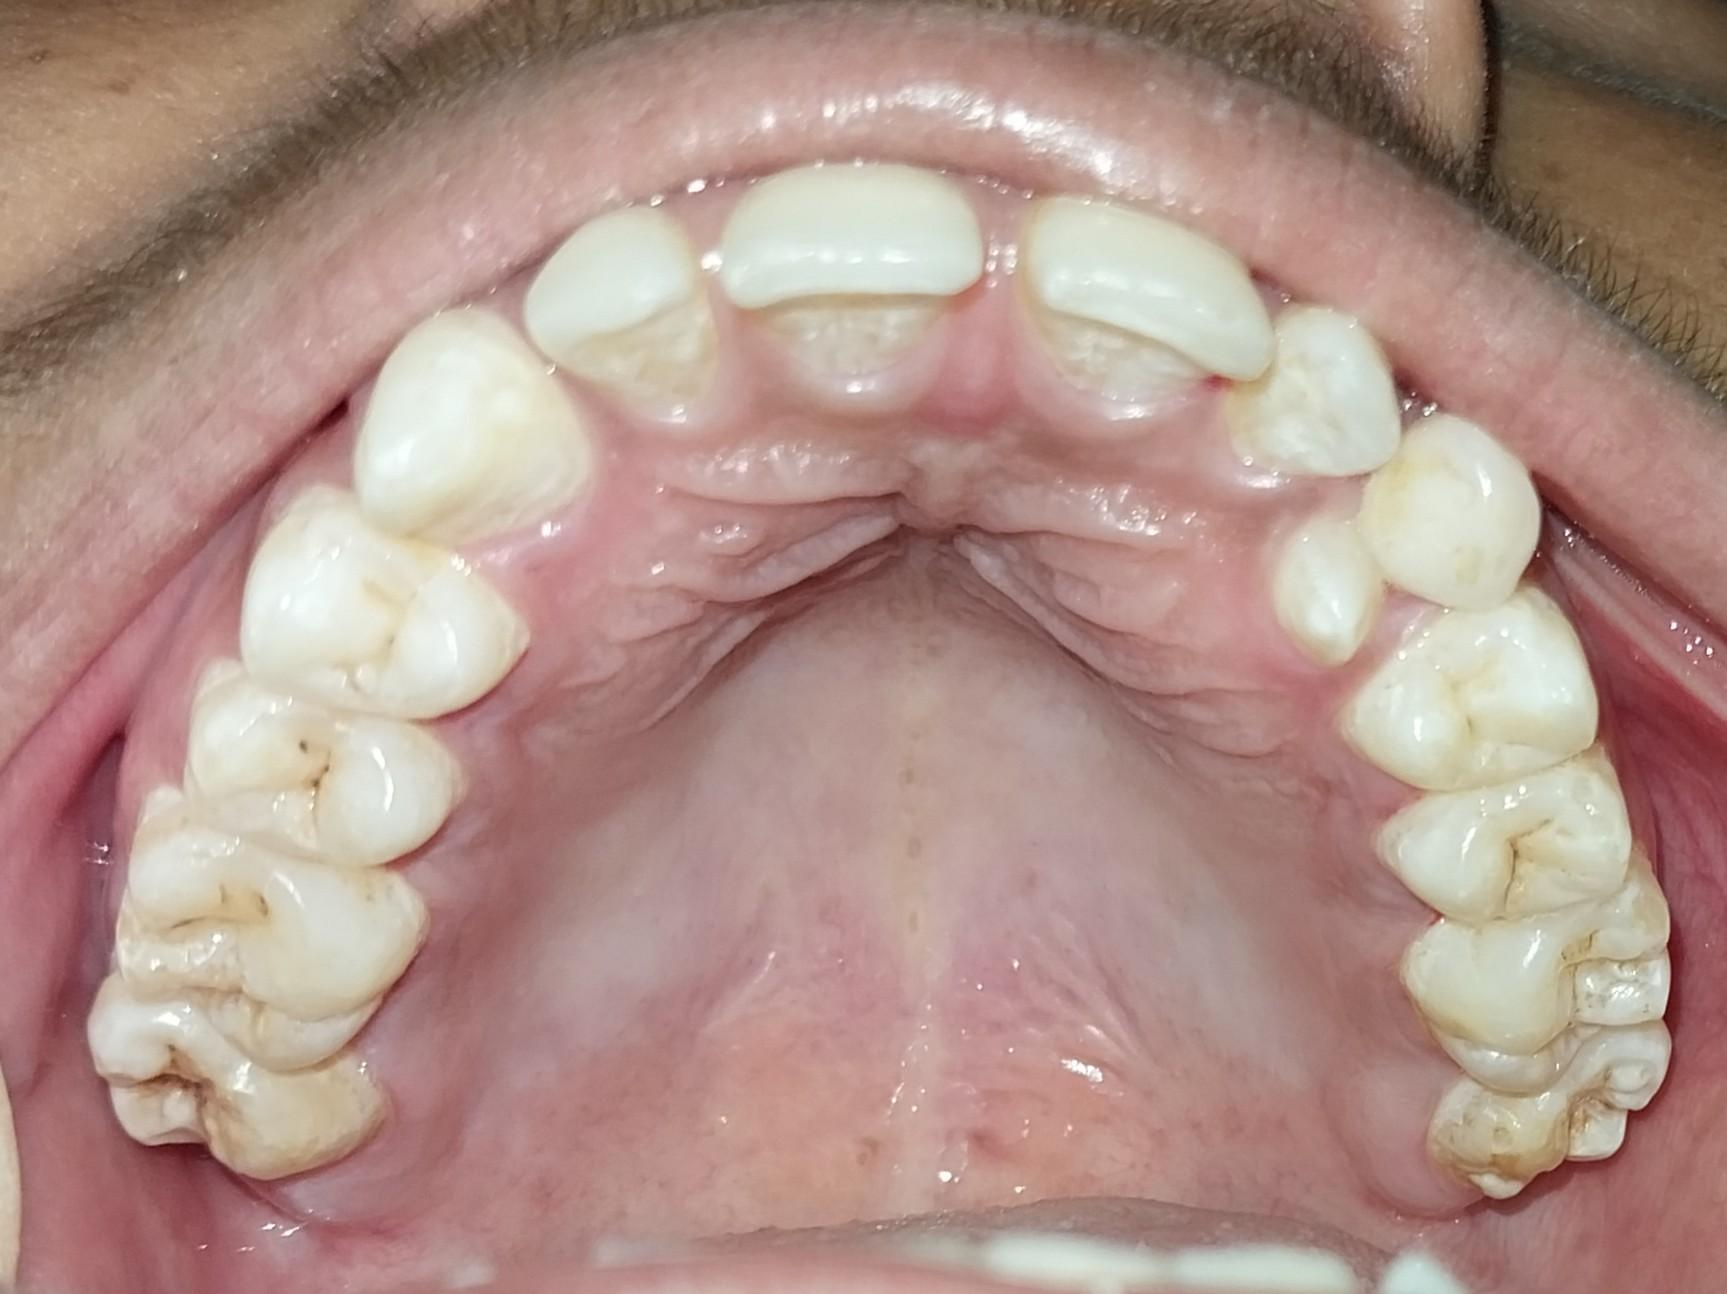D: (109, 795, 419, 1064), (84, 982, 378, 1179), (185, 686, 467, 864), (1391, 752, 1635, 921), (1445, 1029, 1669, 1185)
